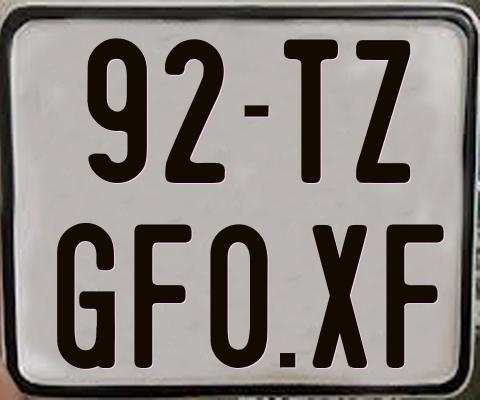0: (208, 222, 266, 372)
2: (164, 38, 230, 187)
9: (84, 35, 147, 182)
F: (134, 224, 196, 372), (385, 221, 445, 367)
G: (57, 222, 115, 371)
T: (283, 36, 341, 184)
X: (310, 224, 368, 370)
Z: (354, 39, 413, 185)
